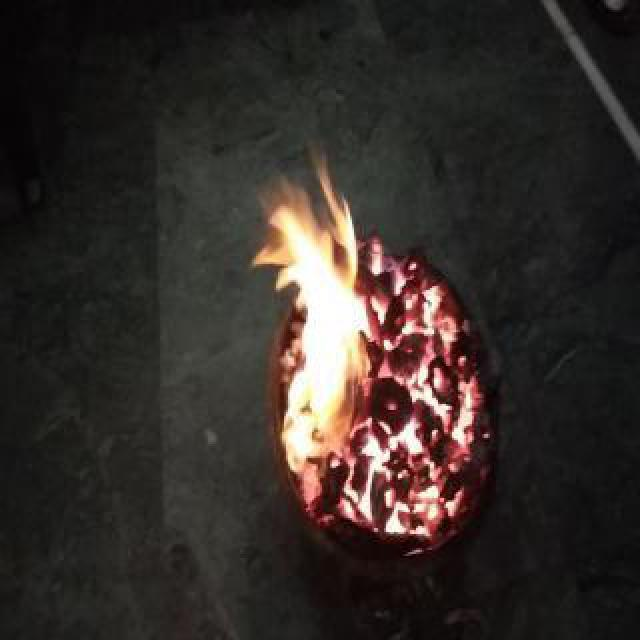Fire: (256, 132, 444, 506)
